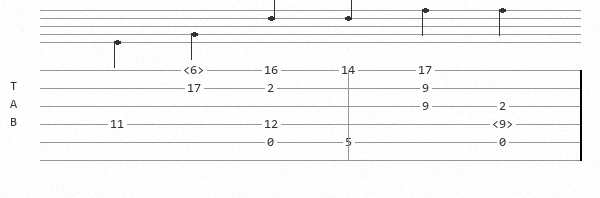0: (267, 136, 278, 148), (499, 136, 510, 148)
11: (110, 118, 128, 130)
12: (264, 118, 282, 130)
14: (341, 64, 359, 76)
16: (264, 64, 282, 76)
17: (187, 82, 205, 94), (418, 64, 436, 76)
2: (267, 82, 278, 94), (499, 100, 510, 112)
5: (345, 136, 356, 148)
9: (422, 100, 433, 112), (422, 82, 433, 94)
harmonic: (183, 64, 208, 76), (492, 118, 517, 130)
